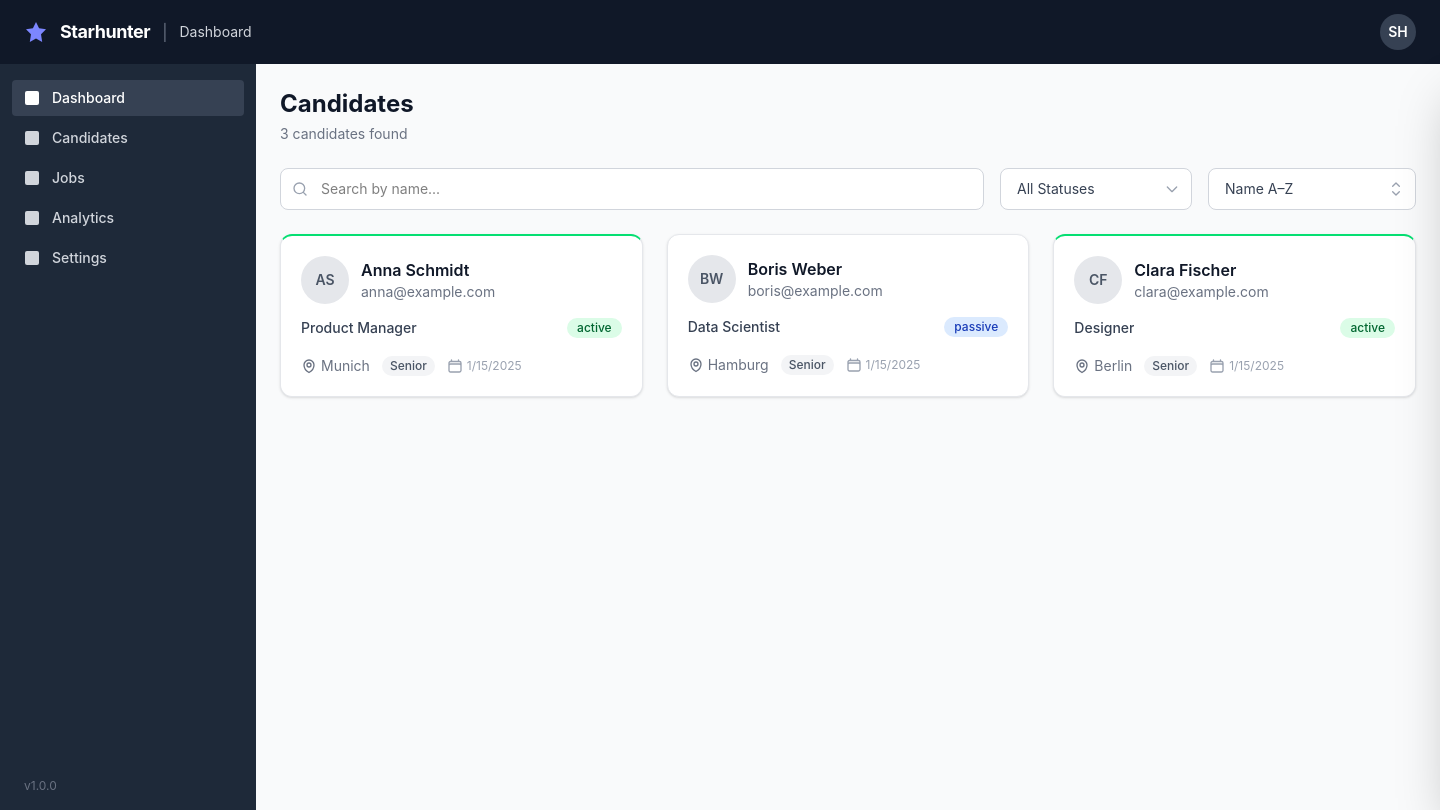
Test case: Candidate list (integration) › filters by search term (debounced)
The width and height of the screenshot is (1440, 810).
Expected: the text "Anna Schmidt" is shown, [361,260,469,280]
Type in search box
Type "Boris" into the field with placeholder "Search by name..." at (632,189), box [280,168,984,210]
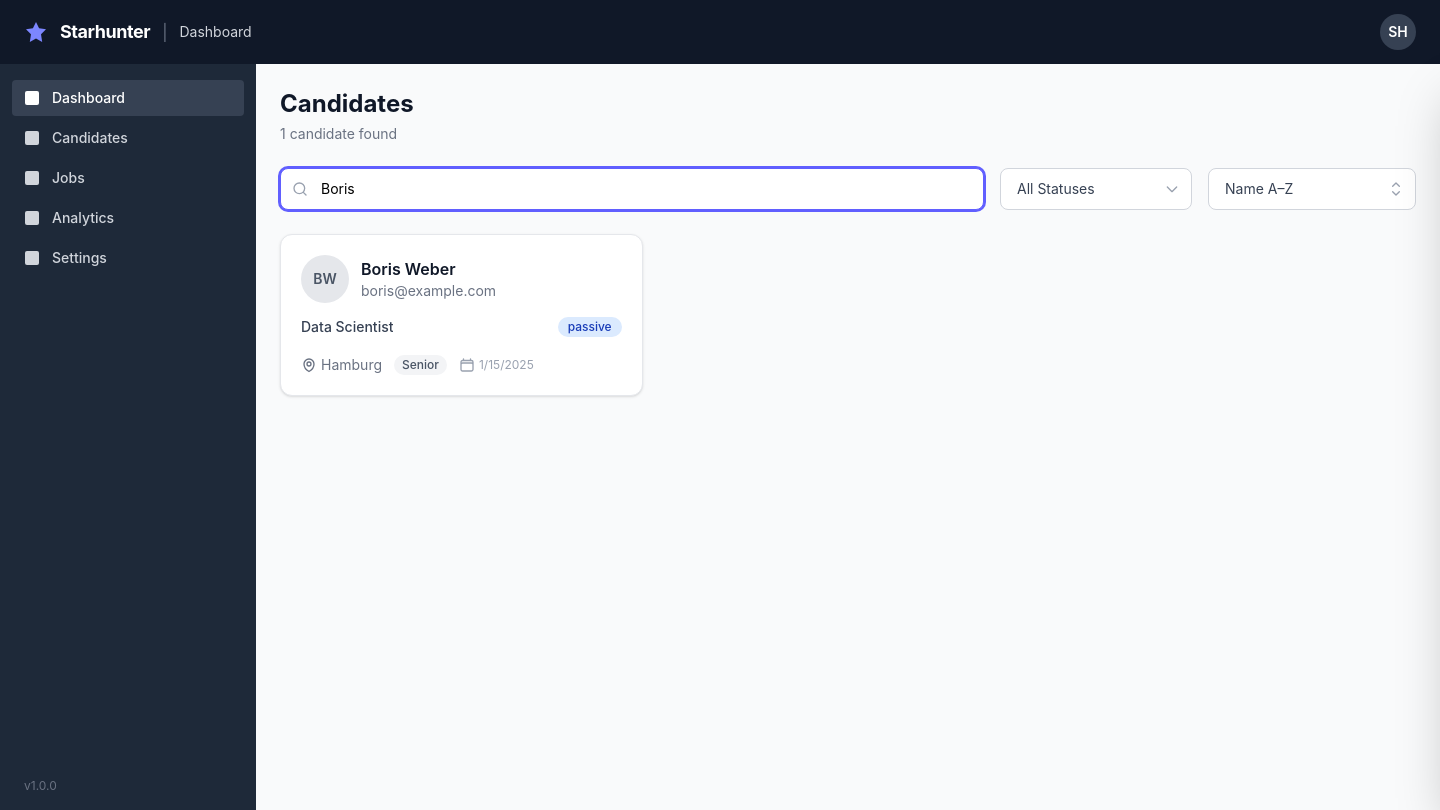
Expected: the text "Boris Weber" is shown, [361,259,456,279]
Expected: the text "Anna Schmidt" is gone
Expected: the text "Clara Fischer" is gone
